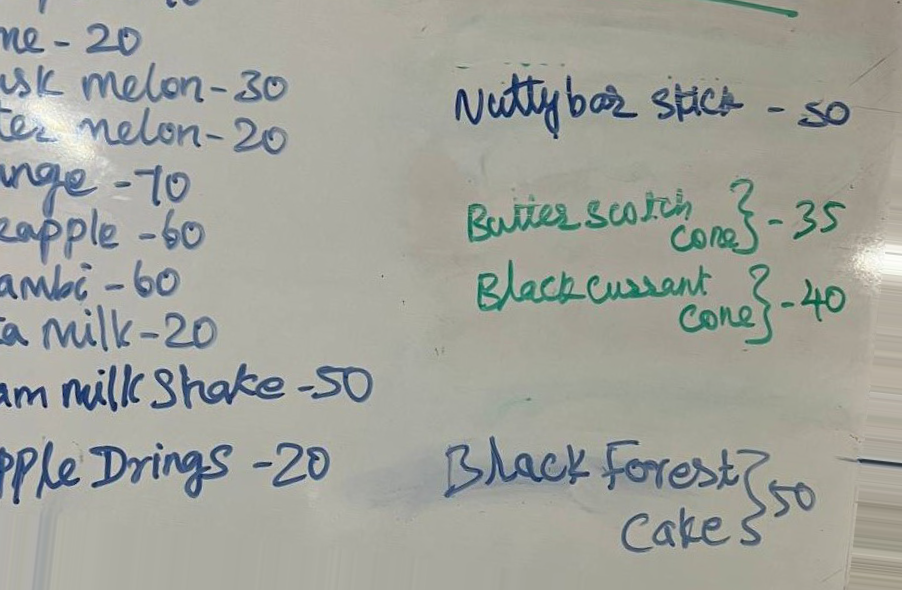black current cone - 40: (474, 260, 851, 352)
black forest cake - 50: (443, 433, 819, 555)
butterscotch cone - 35: (452, 185, 841, 257)
nutty bar - 30: (444, 70, 855, 139)
